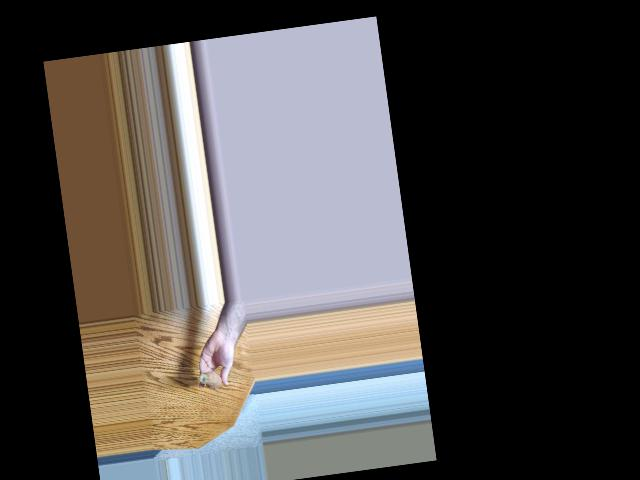sweet_potato: (198, 370, 226, 398)
